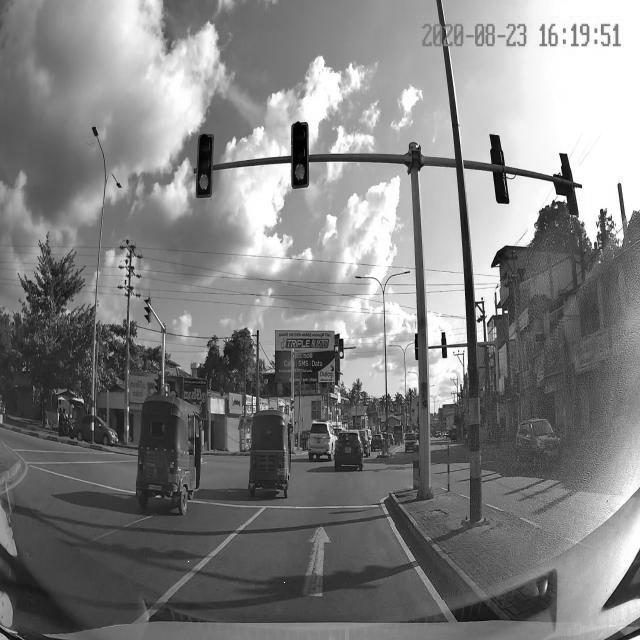forward: (160, 526, 444, 600)
